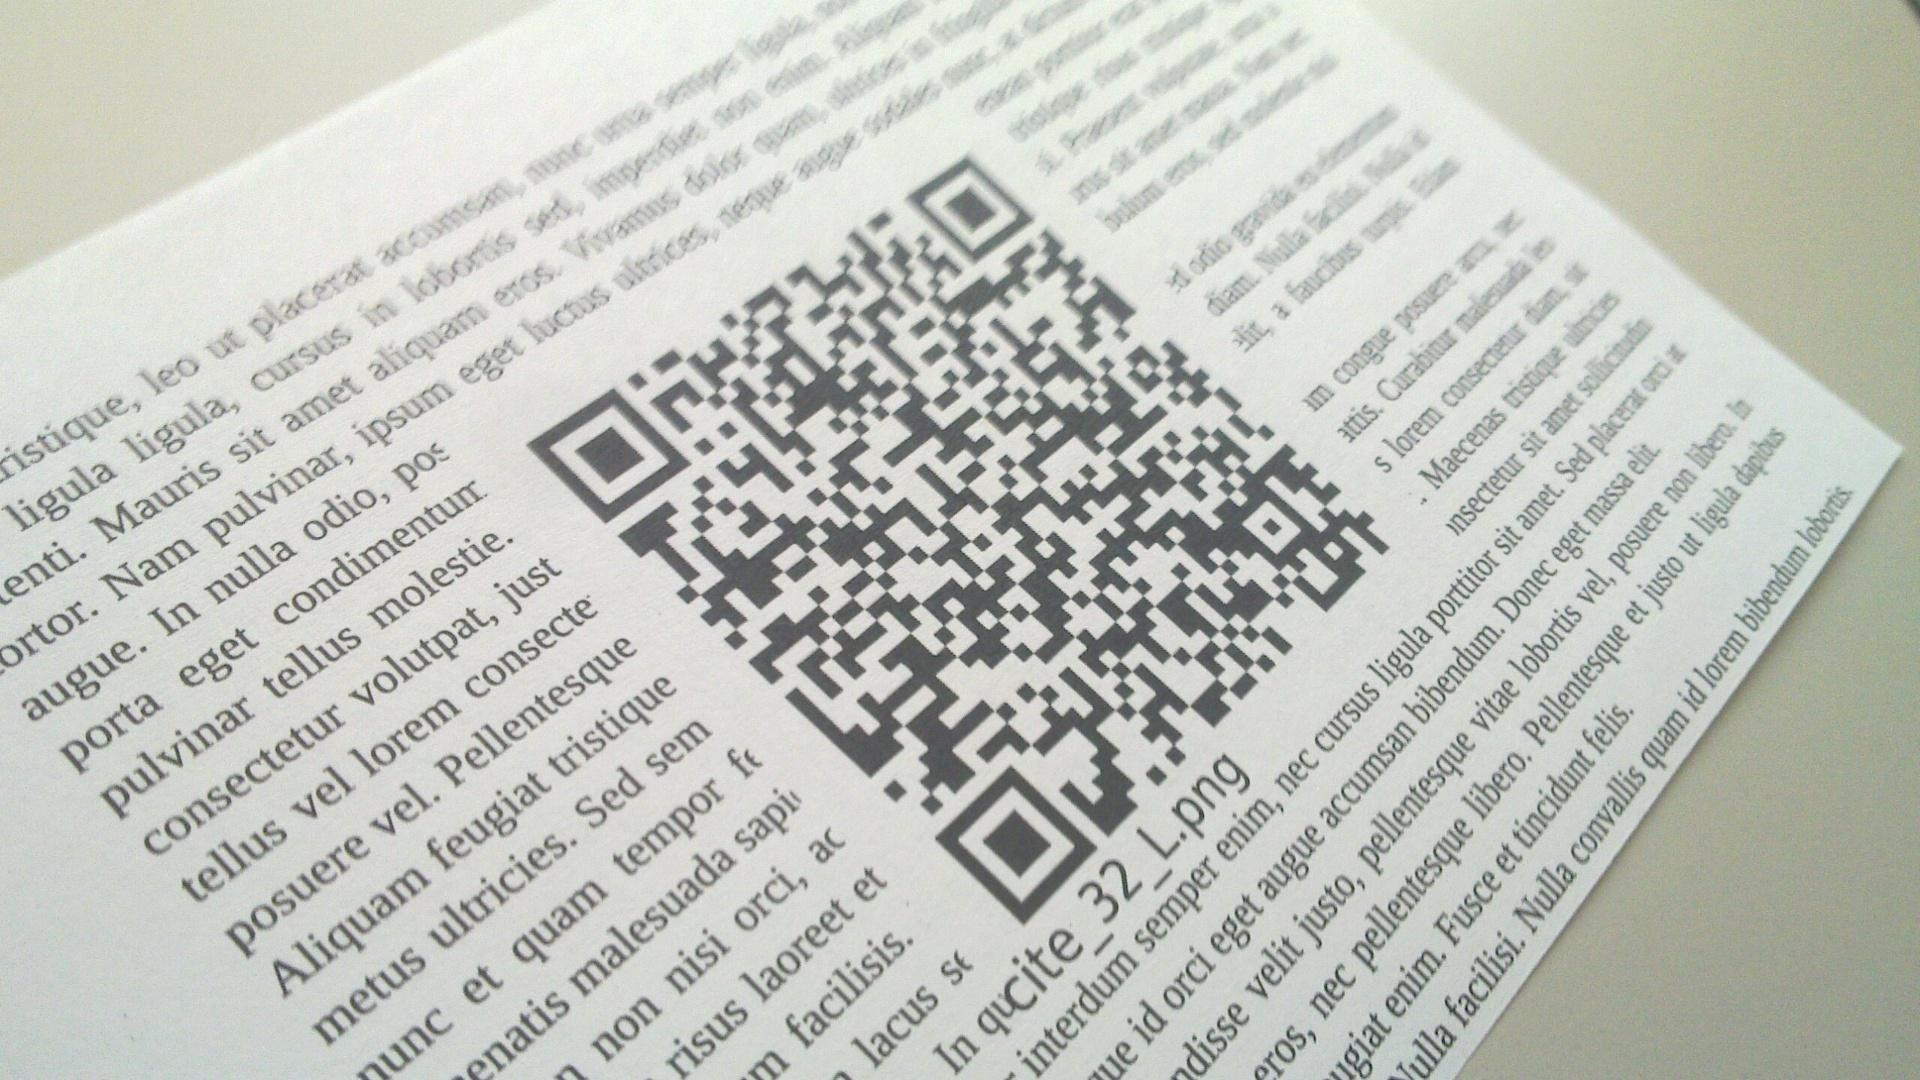Finder pattern: (928, 766, 1095, 924), (520, 389, 680, 516), (899, 160, 1036, 258)
